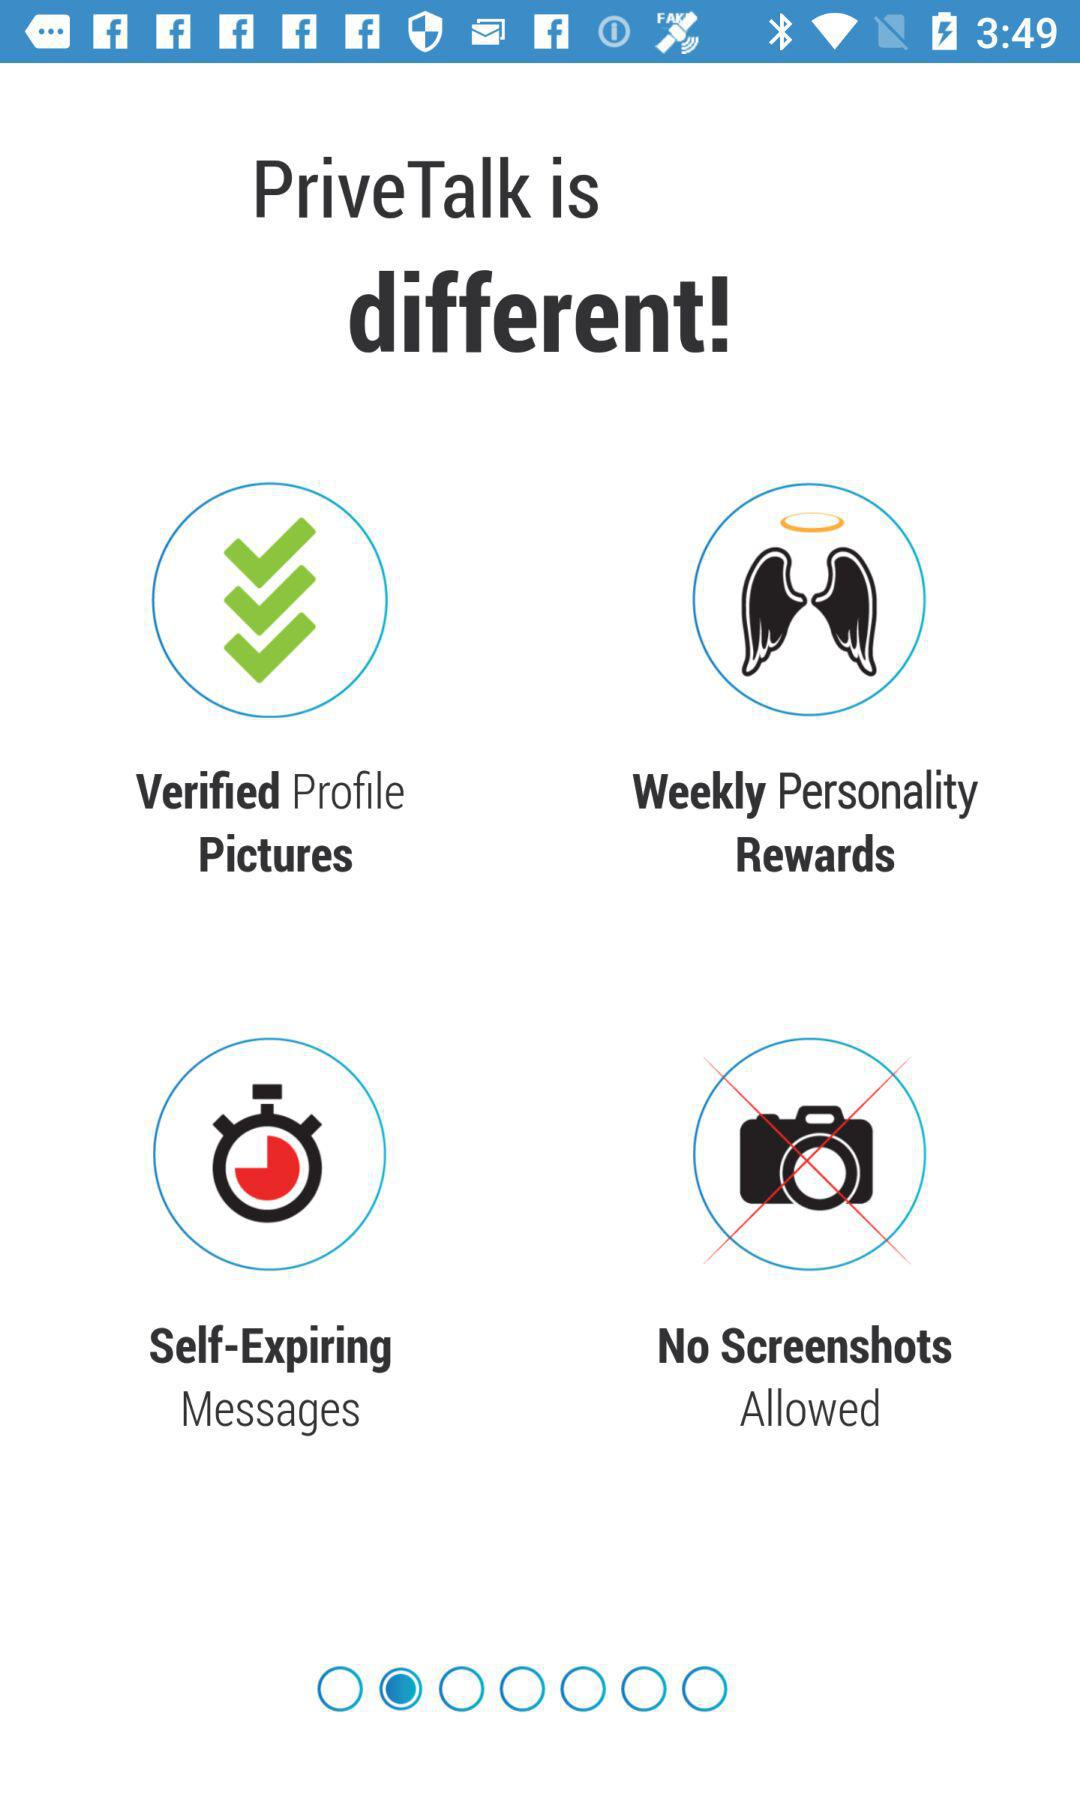Image: (152, 482, 389, 720), (152, 1037, 388, 1272), (692, 1037, 928, 1272), (691, 483, 928, 718)
PageIndicator: (316, 1665, 729, 1713)
Text: (632, 768, 979, 874), (350, 270, 729, 354), (659, 1324, 953, 1428), (137, 769, 406, 874), (149, 1324, 393, 1438), (256, 158, 600, 220)
UpperTaskBar: (1, 1, 1080, 64)
